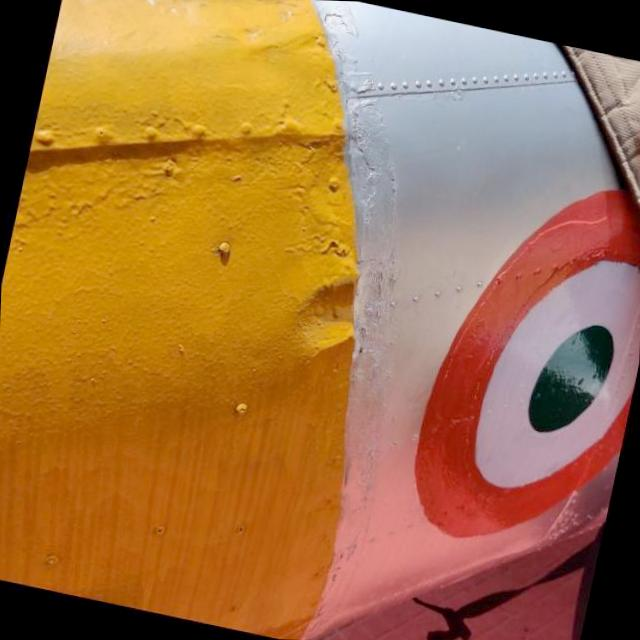dent: (288, 272, 352, 361)
